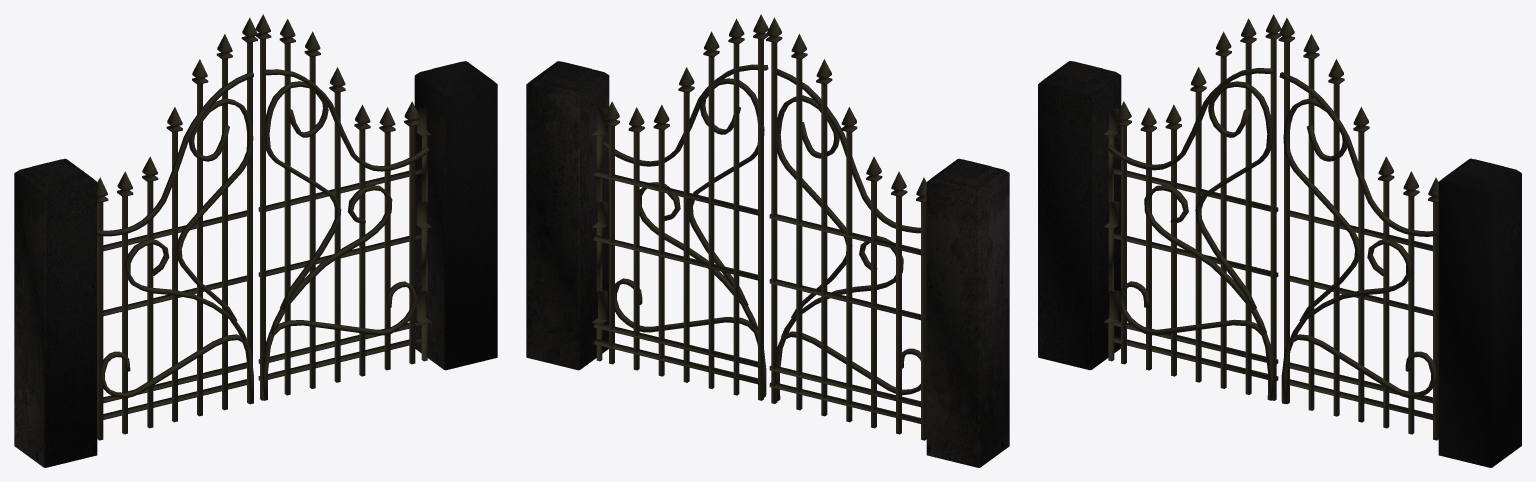
Rendered from gate.gltf.
3 views of the same model, side by side, from view 1: azimuth 30°, elevation 25°; view 2: azimuth 150°, elevation 25°; view 3: azimuth 330°, elevation 25° (orthographic).
Visible parts, largest first — view 1: zabor_Cube.000, kolonny_Cube.000; view 2: zabor_Cube.000, kolonny_Cube.000; view 3: zabor_Cube.000, kolonny_Cube.000.
Part boxes in pixels (x1,y1,x2,y2): zabor_Cube.000: [97, 14, 431, 440]; kolonny_Cube.000: [14, 61, 497, 467]; zabor_Cube.000: [592, 14, 926, 440]; kolonny_Cube.000: [526, 61, 1009, 467]; zabor_Cube.000: [1104, 14, 1438, 440]; kolonny_Cube.000: [1038, 61, 1521, 467].
Bounding box in the file's own units: 6.38 × 5.19 × 0.7544.
2 materials, 1 textured.
